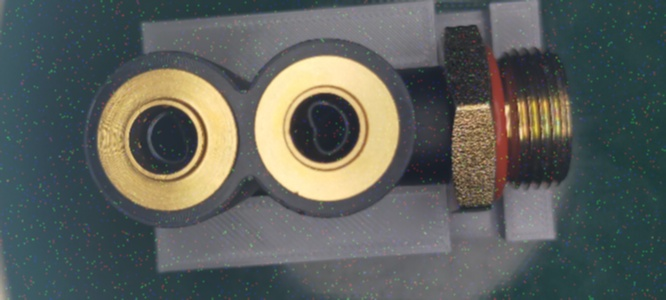off-centered: (299, 101, 356, 157), (139, 112, 195, 165)
